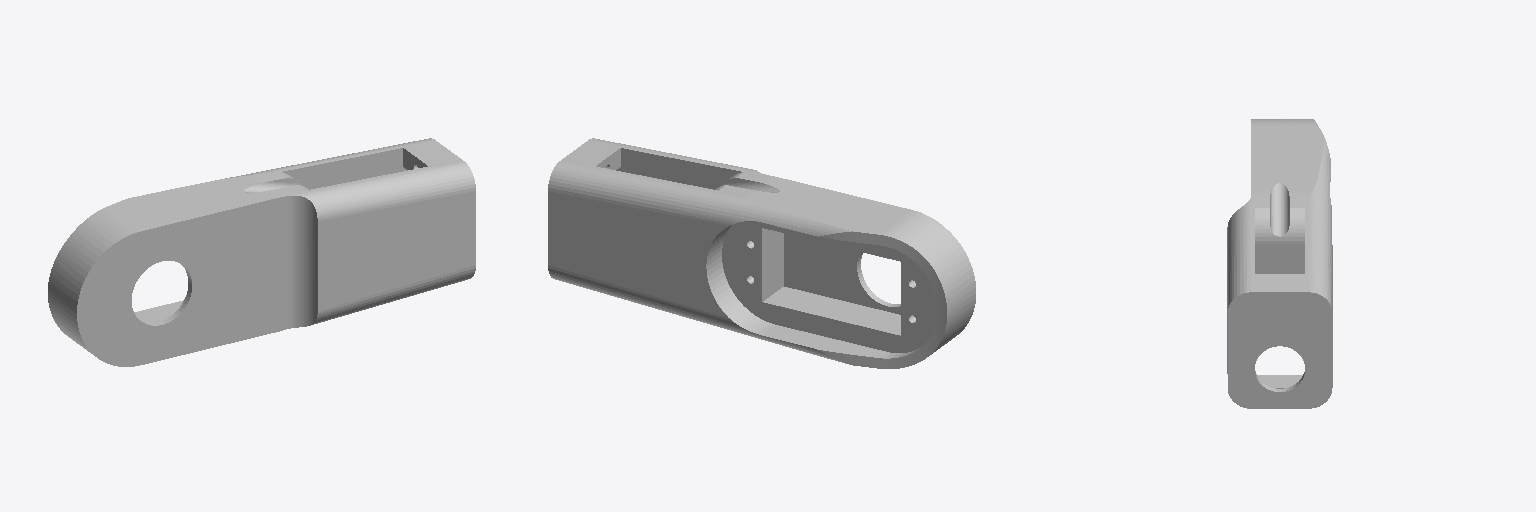
Rendered from arm_2.obj.
3 views of the same model, side by side, from view 1: azimuth 30°, elevation 25°; view 2: azimuth 150°, elevation 25°; view 3: azimuth 270°, elevation 25° (orthographic).
Visible parts, largest first — view 1: fabconvert.com_arm_02_v3; view 2: fabconvert.com_arm_02_v3; view 3: fabconvert.com_arm_02_v3.
Part boxes in pixels (bbox=[...]): fabconvert.com_arm_02_v3: bbox=[48, 138, 475, 366]; fabconvert.com_arm_02_v3: bbox=[548, 138, 975, 368]; fabconvert.com_arm_02_v3: bbox=[1227, 119, 1332, 408].
Bounding box in the file's own units: 1.71 × 0.5644 × 0.4014.